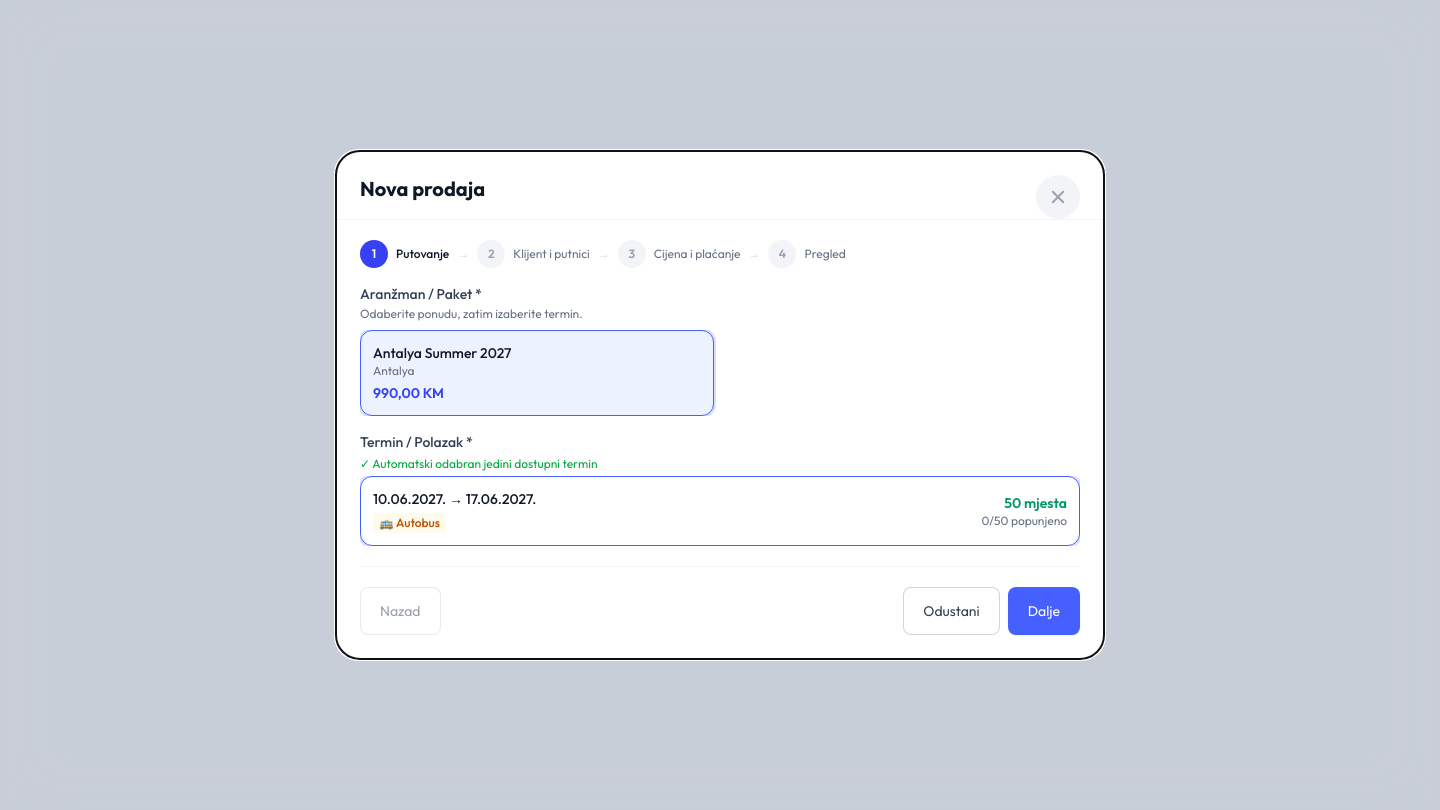
Test: NewSaleWizard — passenger slot initialization › default open → exactly 1 passenger slot
This screenshot has width=1440, height=810.
Check: the text "Antalya Summer 2027" is shown, box [373, 344, 511, 362]
Click the button "Dalje". click: coordinates (1044, 611)
box: [1008, 587, 1080, 635]
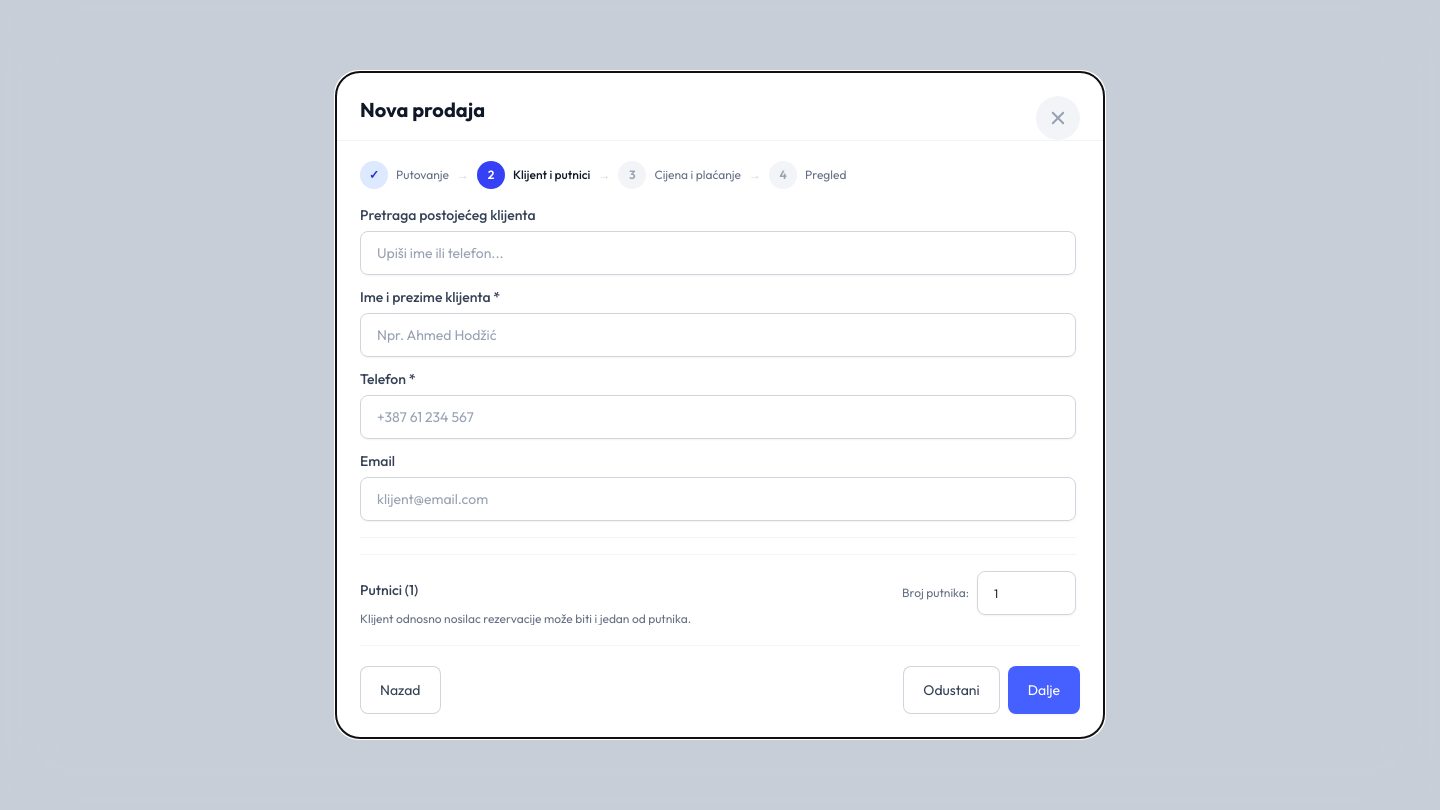
Check: the text "Ime i prezime klijenta *" is shown, box [360, 288, 500, 306]
